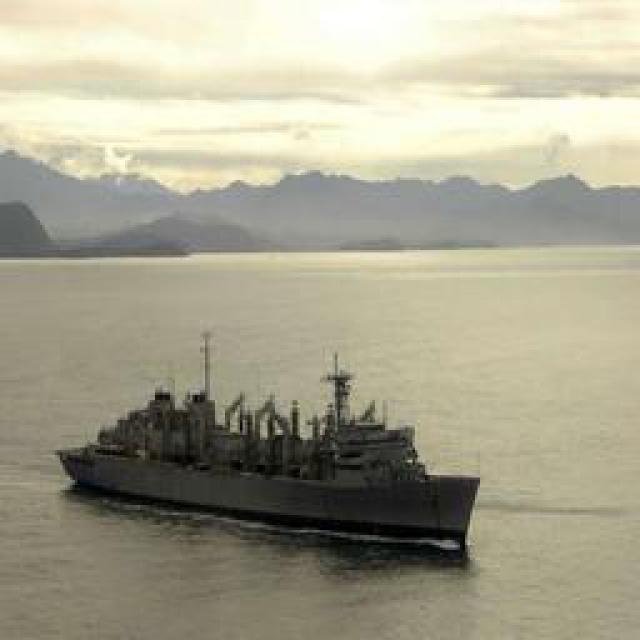Ship: (61, 330, 479, 555)
